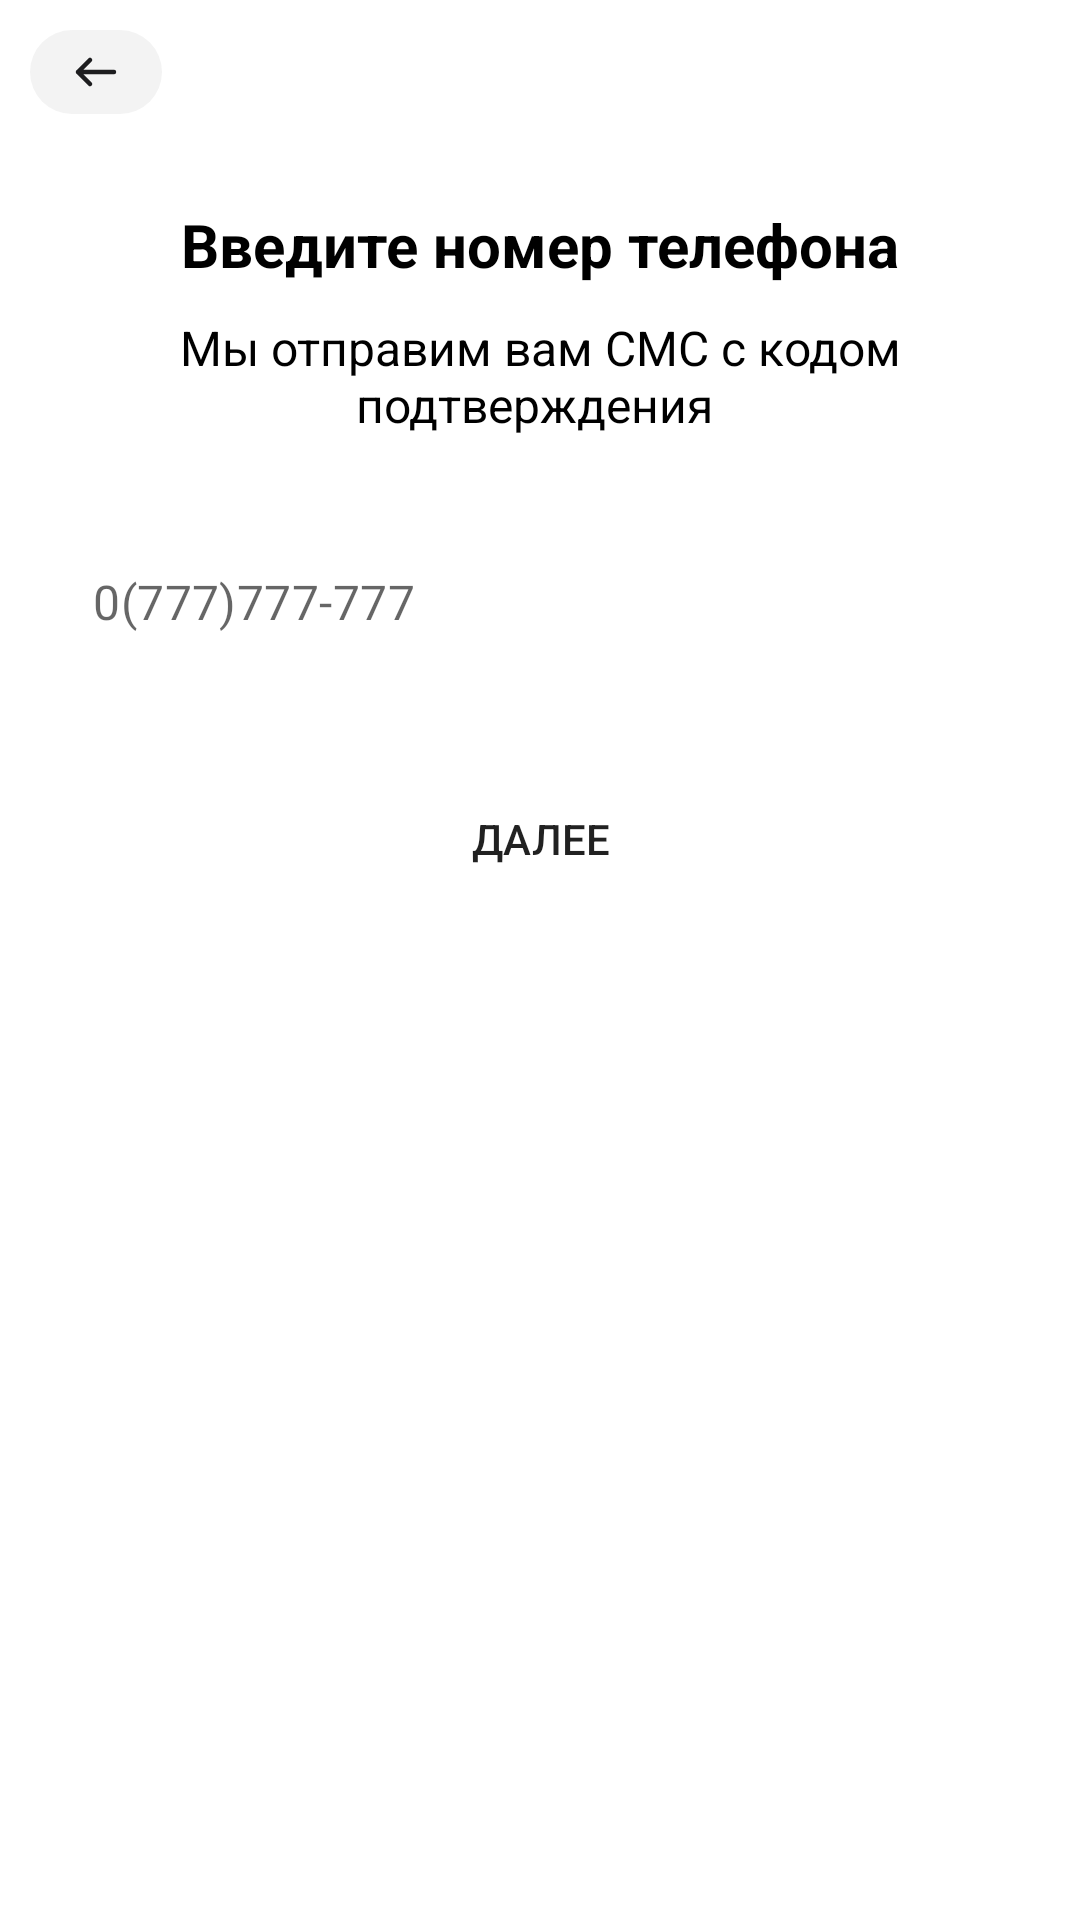

Icons on this 1080 x 1920 Android screen, each with its box as (x1,y1,x2,y2):
back: (30,30,162,114)
